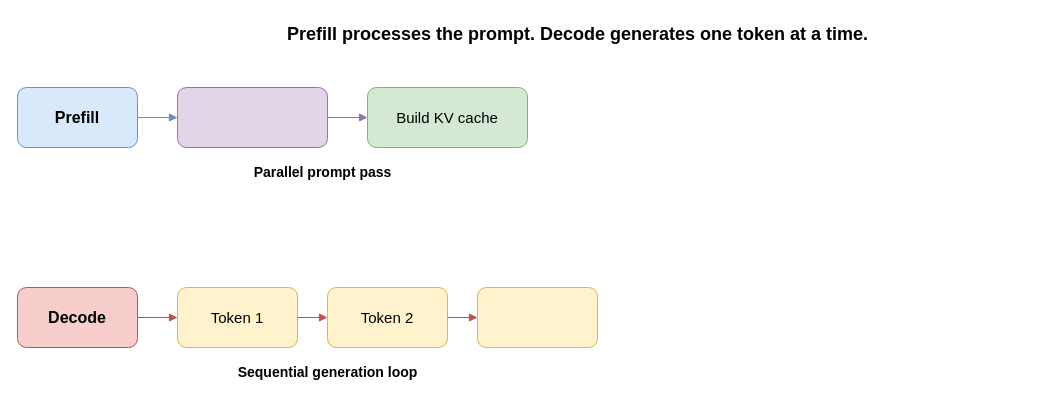
This 1045x404 diagram has some shape labels left out. Here are the shapes that lost their labels. From the top down, the centre of each, then its label:
the point at 252,117: Prompt tokens
the point at 537,317: Token 3
